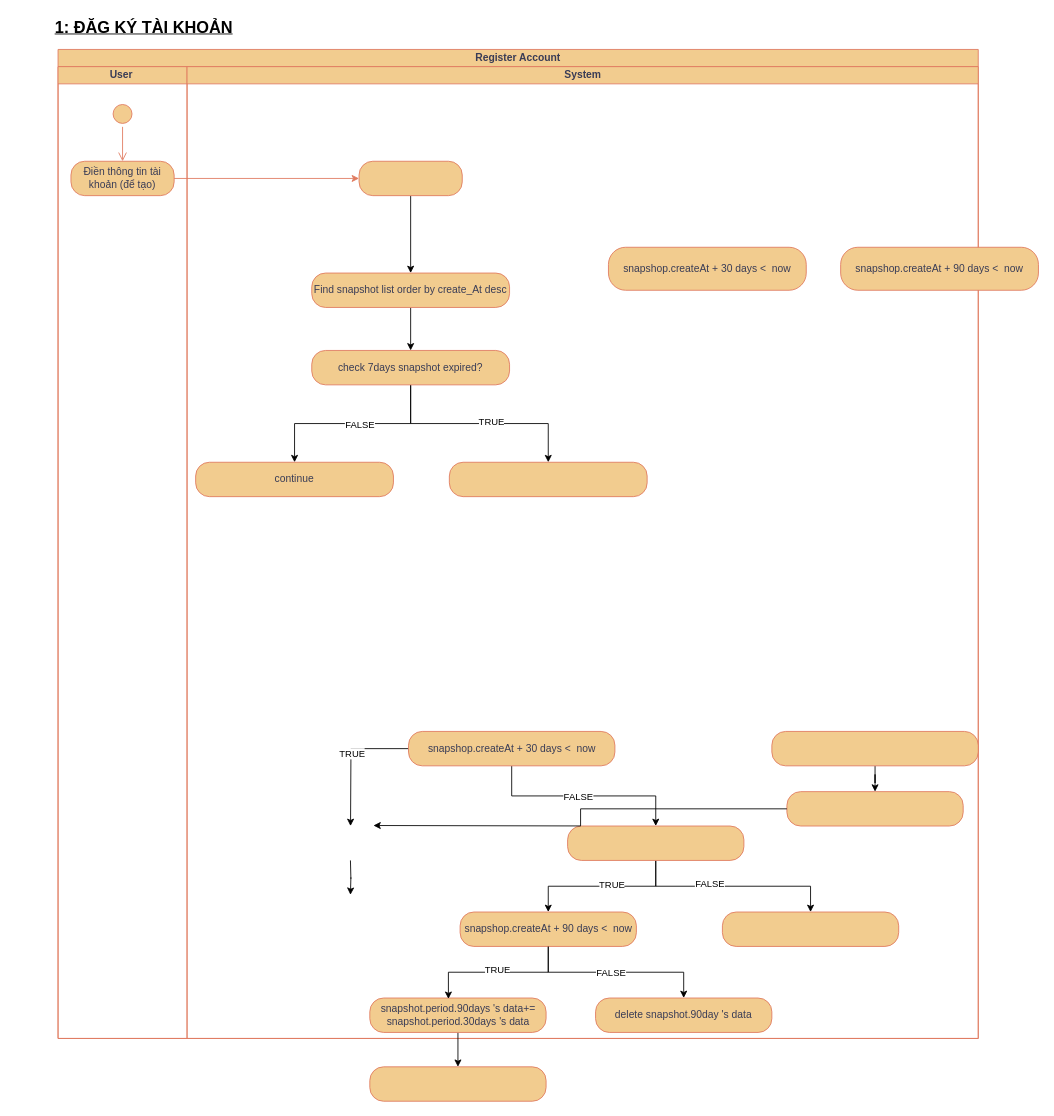
Some shapes in this 1054 by 1116 pixel diagram are drawn without their labels. The centre of each missing label's shape, as x and y in pixels:
call method: apply stats_snapshot: pixel 410 178
copy data from 7 dáy snapshot: pixel 547 479
create new snapshot.30days: pixel 874 748
create new snapshot.90days: pixel 810 928
fetch snapshot.period = 90days: pixel 655 842
reset snapshot.30day 's data: pixel 457 1083
snapshot.period.30days += snapshot.period.7days: pixel 874 808
